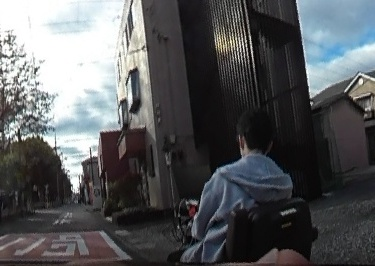person: (192, 109, 293, 266)
